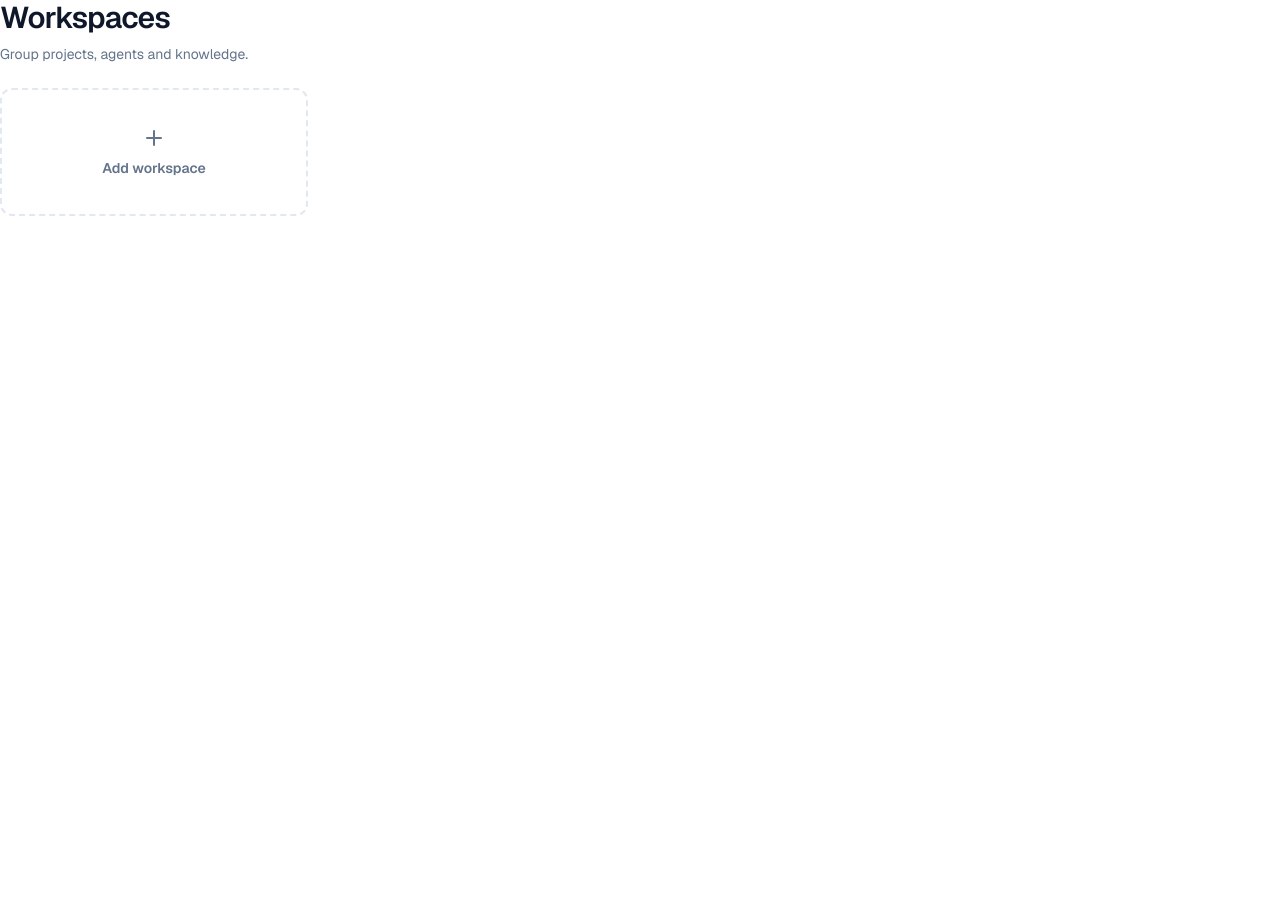
it: WorkspacesLandingPage › should open the create dialog and POST the form to the API
Click the button "Add workspace".
click(154, 152)  # box [0,88,308,216]
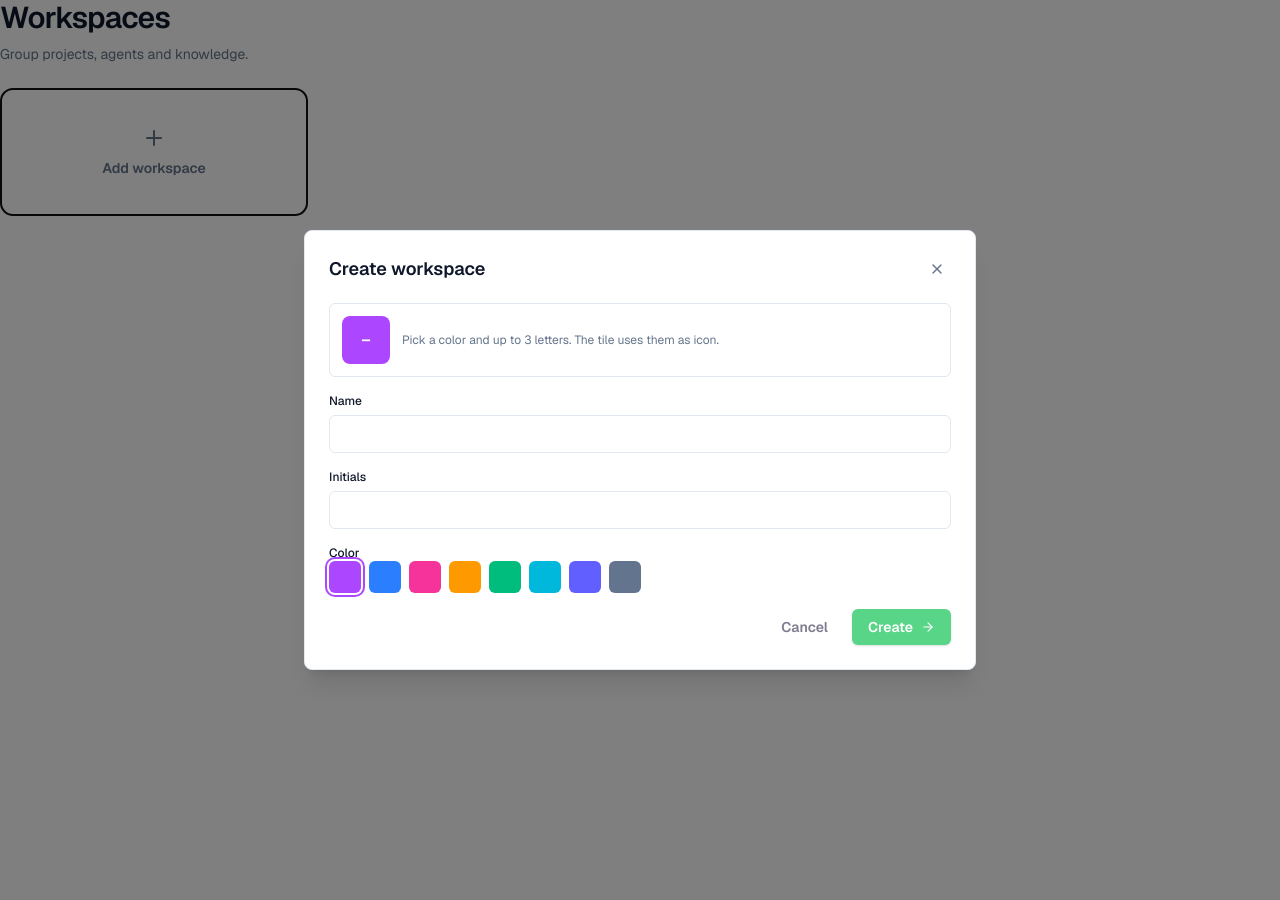
Type "Sport" into the field labelled "Name".
click(640, 434); type("Sport")  # box [329,415,951,453]
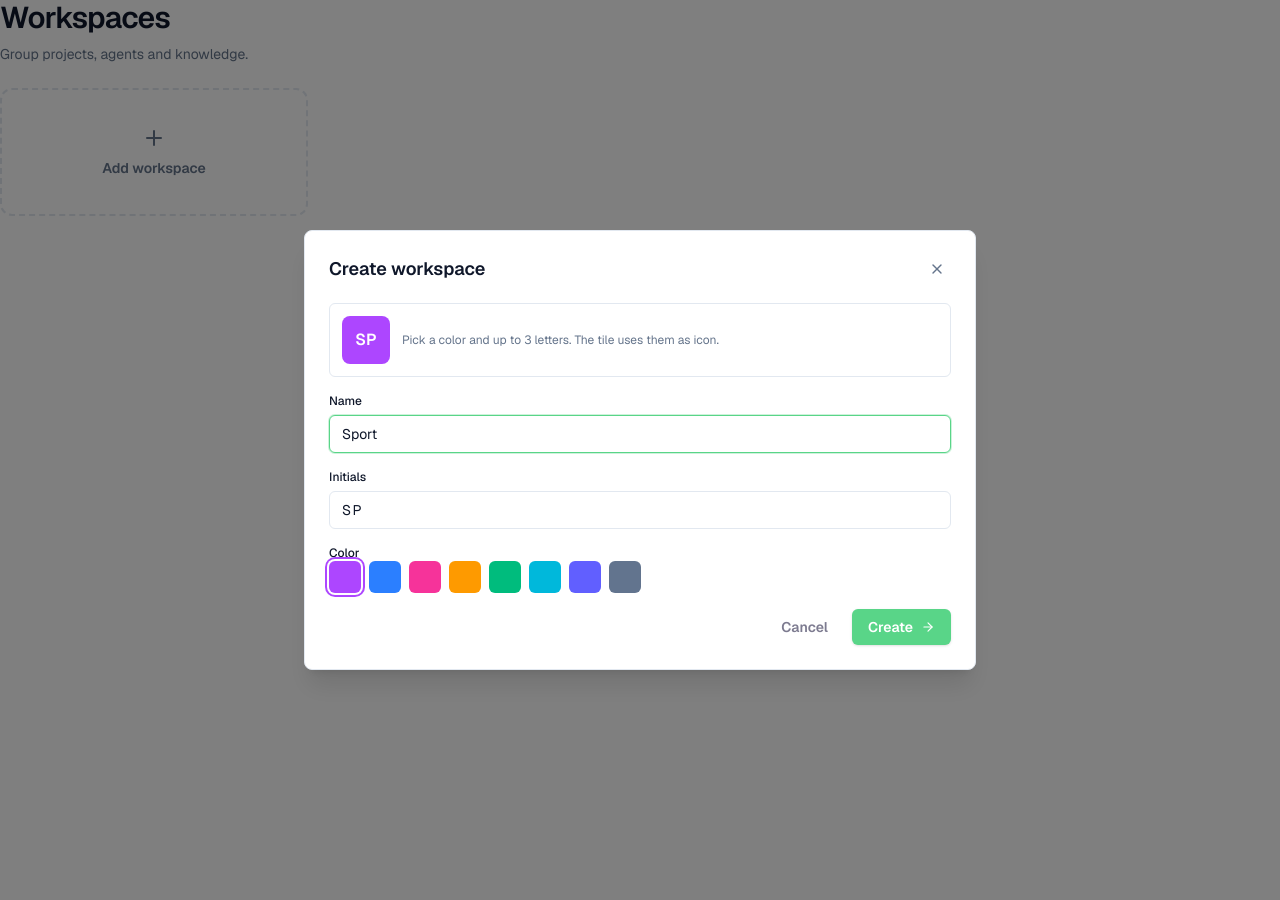
Click the button "Create".
click(902, 627)  # box [852,609,951,645]
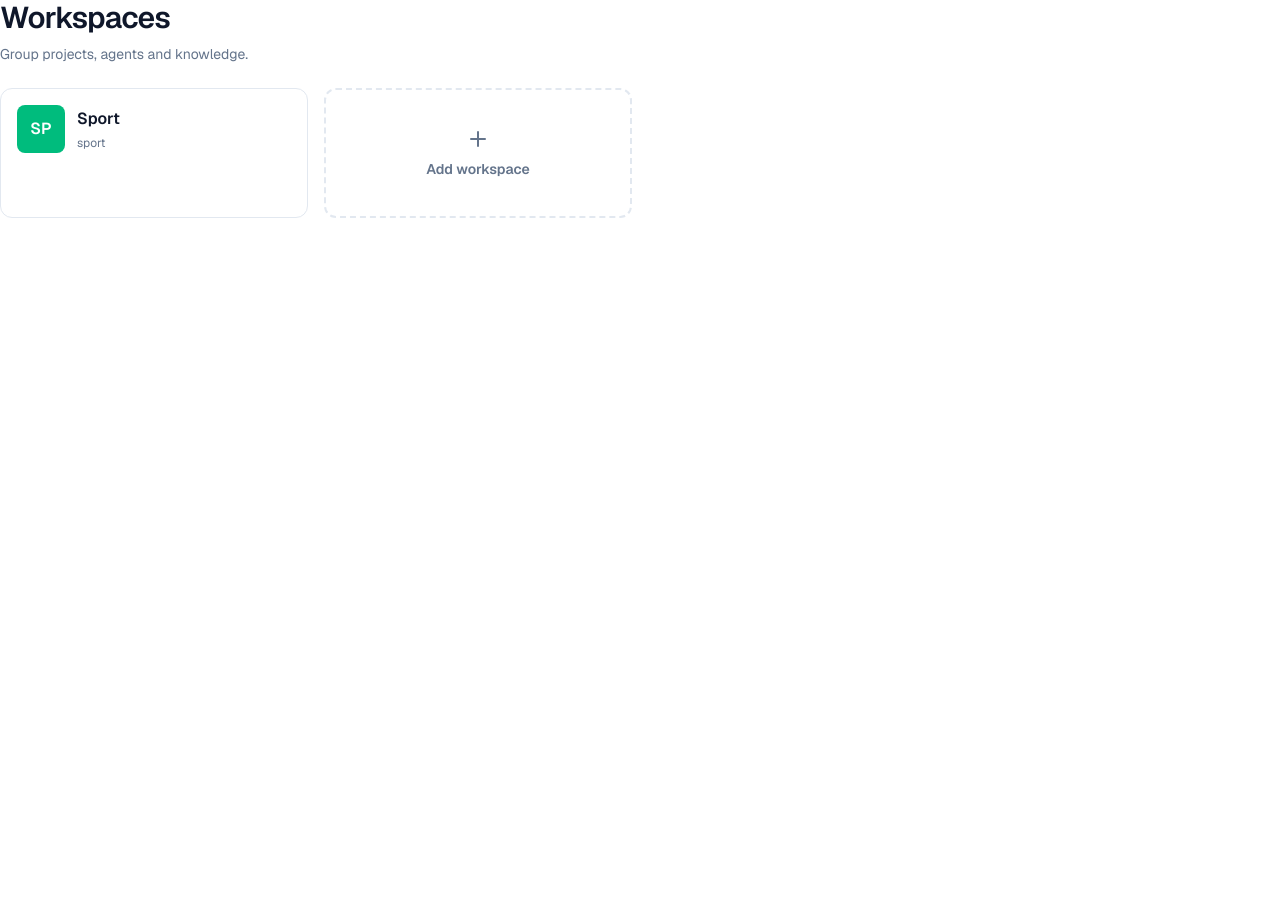
Result: the element named "workspace sport" is shown at [0,88,308,218]
